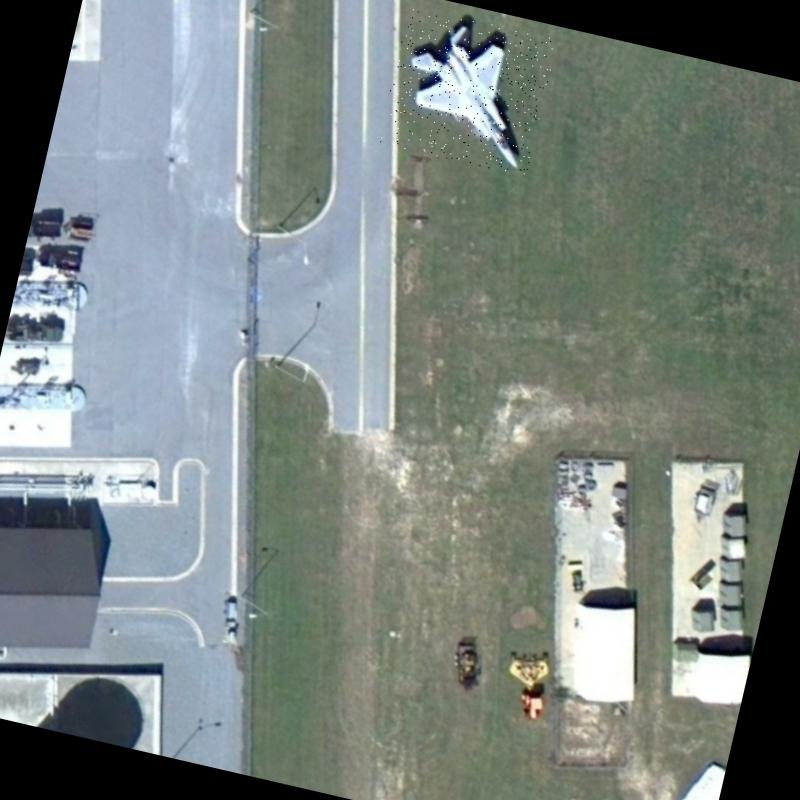A13: (378, 5, 558, 176)
